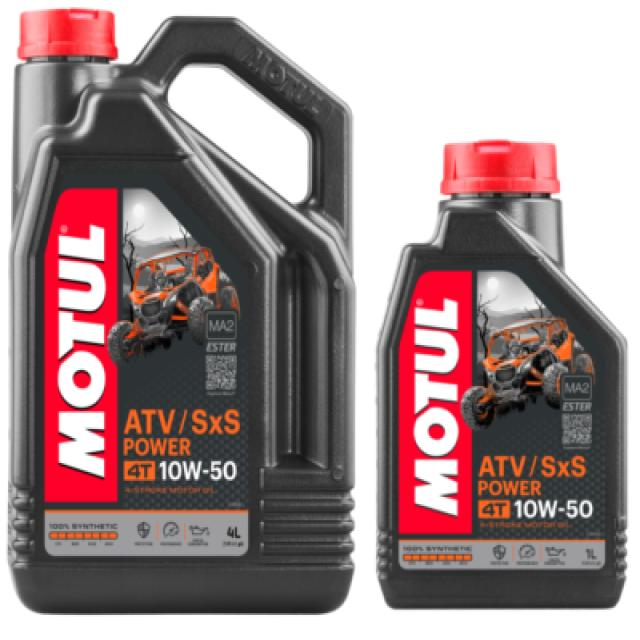motor_oil: (8, 3, 363, 617), (377, 130, 631, 616)
